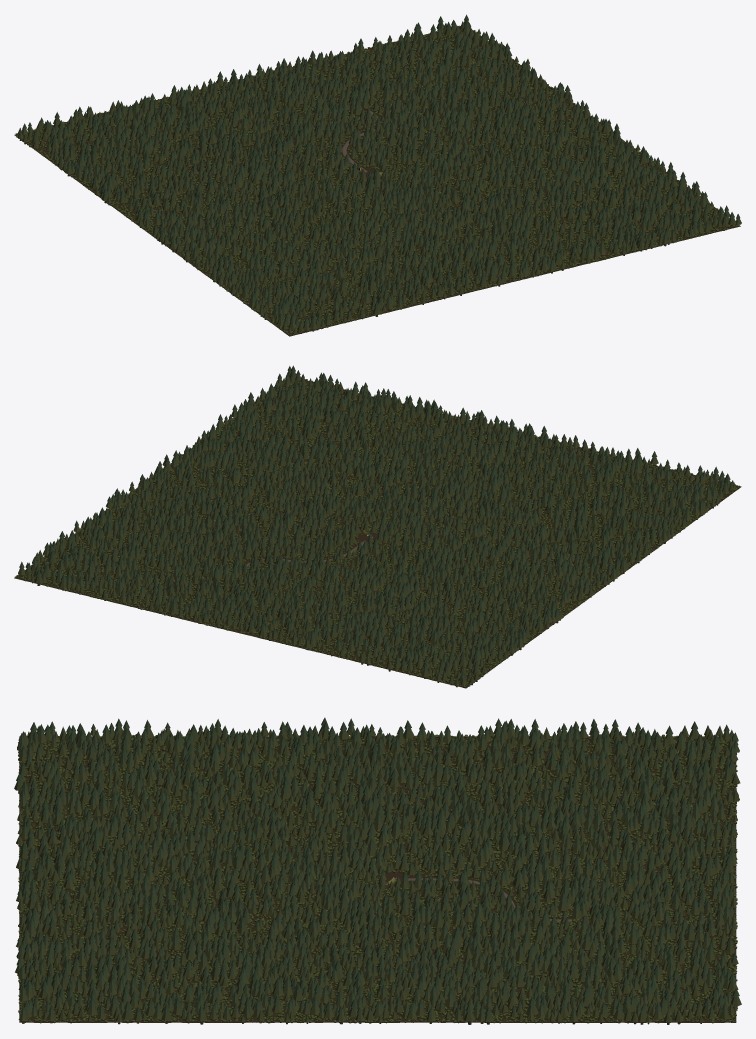
The model's file is assets.glb.
The picture shows the model from 3 angles, top to bottom: view 1: azimuth 30°, elevation 25°; view 2: azimuth 150°, elevation 25°; view 3: azimuth 270°, elevation 25°; orthographic projection. The views are drawn at different scales.
Parts seen in each view (by area): view 1: GEO.Camp.Ground.001; view 2: GEO.Camp.Ground.001; view 3: GEO.Camp.Ground.001.
Boxes of the visible parts, <box> form: GEO.Camp.Ground.001: <box>14,14,741,336</box>; GEO.Camp.Ground.001: <box>14,365,741,688</box>; GEO.Camp.Ground.001: <box>14,717,741,1024</box>.
Size of the model in its own units: 142 by 5.25 by 150.
